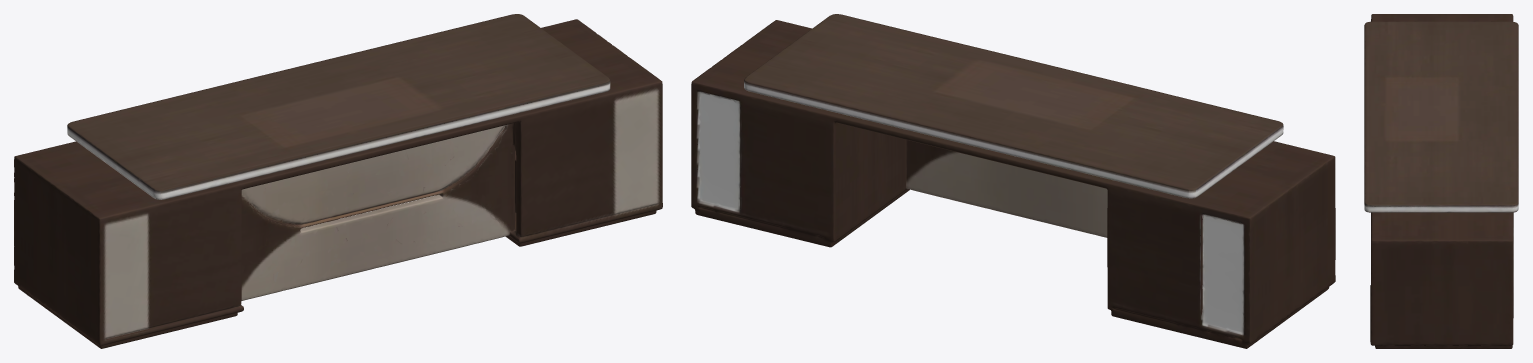
Rendered from Modern Executive Desk with Integrated Storage [rTvOrd].glb.
3 renders of one model, left to right at view 1: azimuth 30°, elevation 25°; view 2: azimuth 150°, elevation 25°; view 3: azimuth 270°, elevation 25°, orthographic. The views are drawn at different scales.
Parts seen in each view (by area): view 1: world; view 2: world; view 3: world.
Boxes of the visible parts, <box> form: world: <box>14,14,662,348</box>; world: <box>691,14,1335,348</box>; world: <box>1364,14,1518,348</box>.
Bounding box in the file's own units: 1 × 0.2568 × 0.2888.
Materials: 1 (1 with a texture image).
